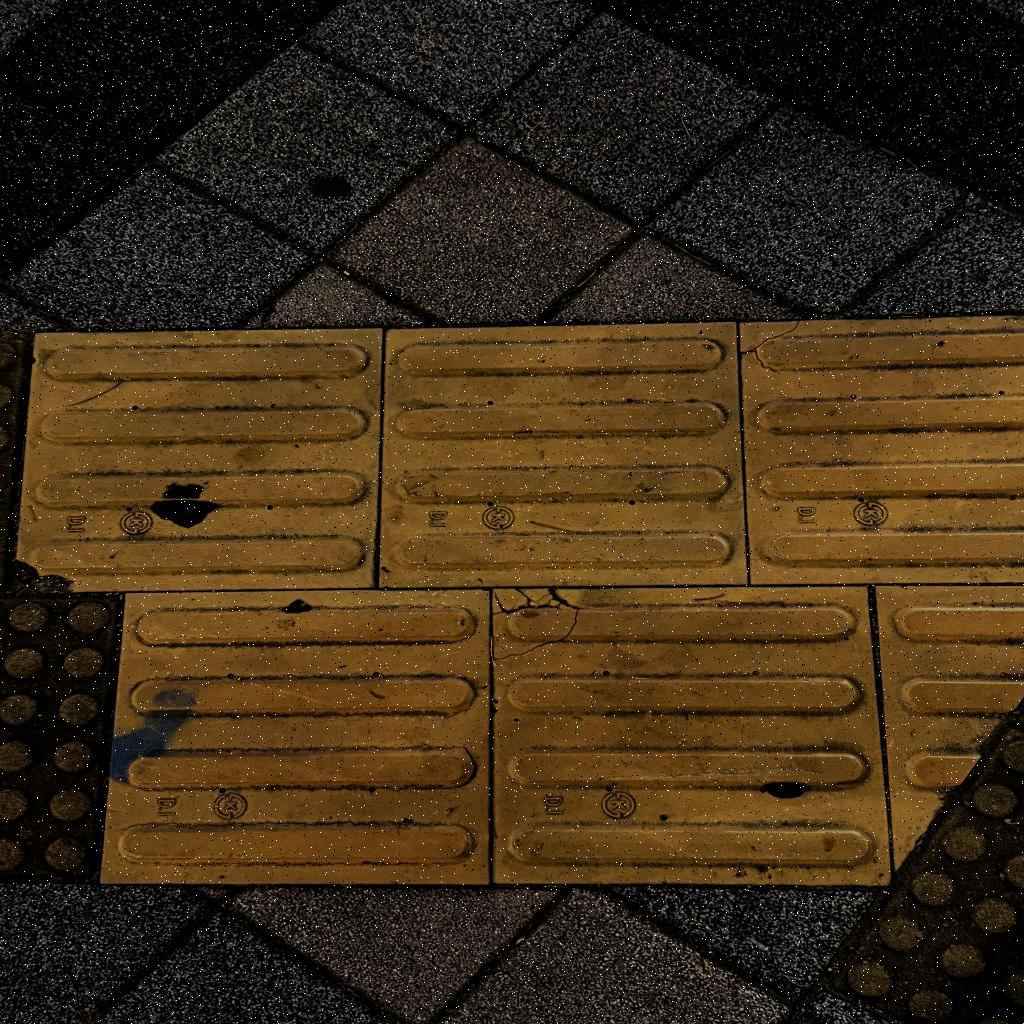Straight block broken: (9, 328, 384, 591)
Straight block normal: (99, 594, 486, 882), (381, 324, 745, 581)
